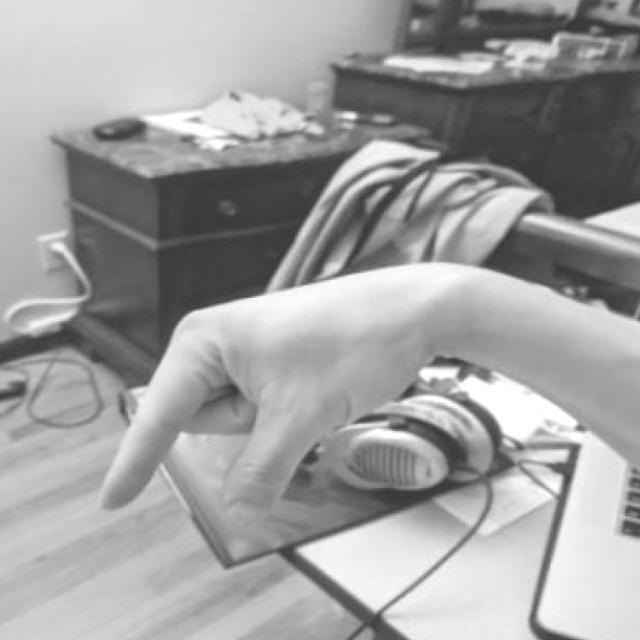Q: (85, 228, 495, 545)
